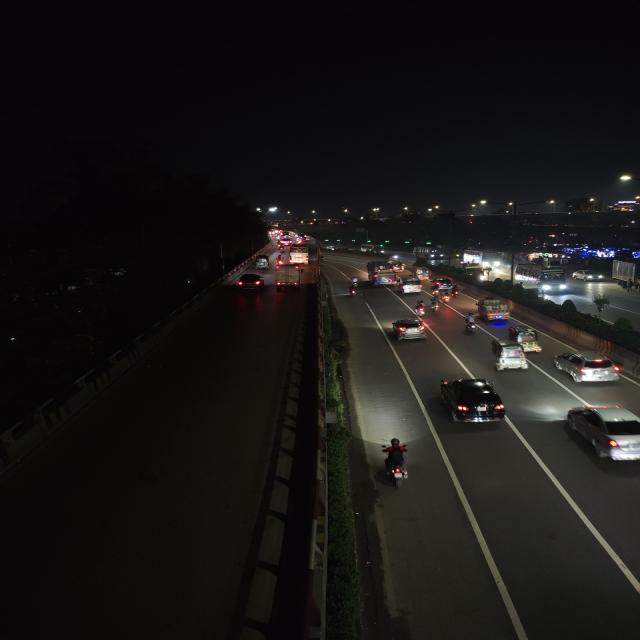bus: (513, 264, 568, 292), (363, 259, 399, 283), (461, 250, 498, 268), (412, 245, 443, 263), (288, 246, 309, 264)
car: (559, 402, 640, 467), (432, 375, 512, 429), (552, 349, 622, 387), (389, 317, 428, 343), (235, 272, 266, 292), (572, 269, 604, 283), (400, 276, 424, 294), (432, 277, 452, 290), (278, 238, 294, 247)
cng: (489, 340, 529, 372), (513, 326, 544, 354), (254, 254, 270, 270)
motorcycle: (374, 436, 418, 490), (460, 313, 480, 335), (421, 297, 440, 315), (414, 300, 428, 318), (430, 297, 441, 313), (275, 253, 287, 267), (347, 274, 360, 286), (347, 286, 360, 298), (435, 292, 446, 306)
pickup_van: (474, 296, 515, 323)
truck: (611, 256, 640, 294), (274, 265, 304, 291), (416, 266, 428, 280)
